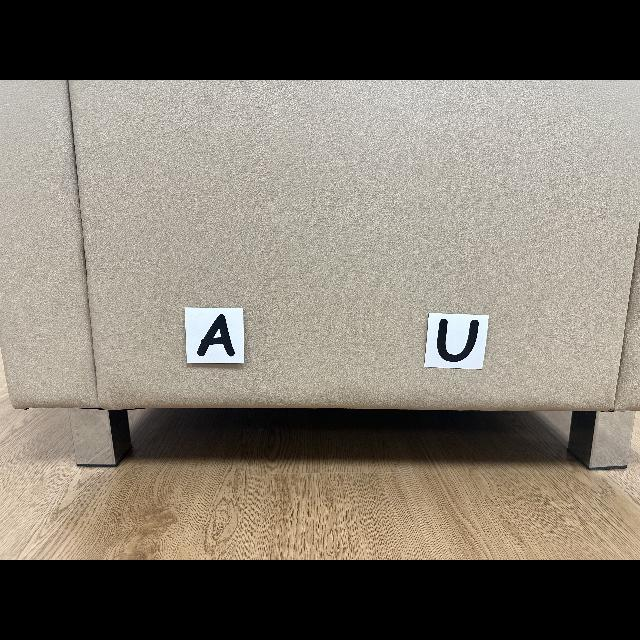A: (198, 314, 235, 356)
U: (438, 319, 479, 362)
